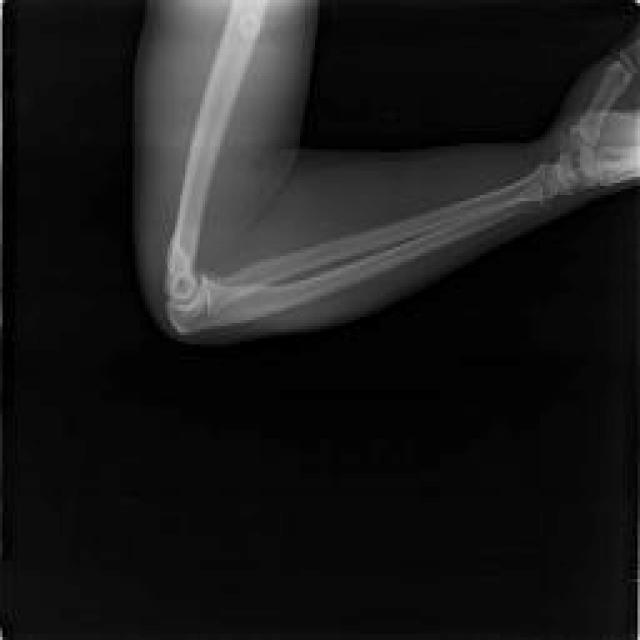normal: (159, 0, 640, 330)
